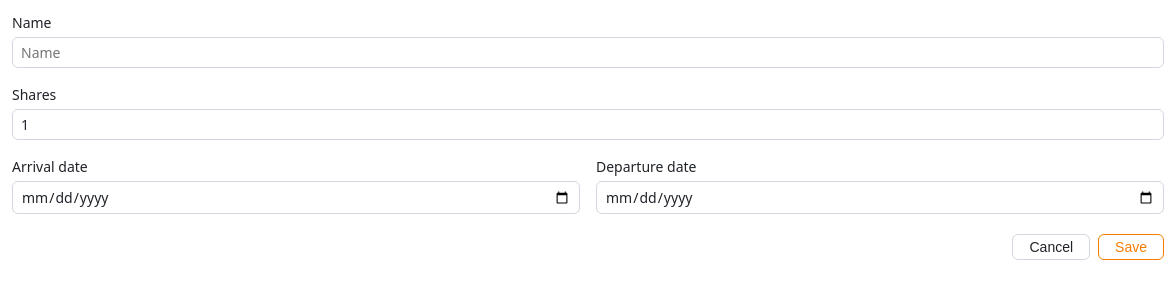
Test: PersonForm › shows departure before arrival error
Type "Bob" into the field with placeholder "Name".
click(588, 52); type("Bob")  # box left=12, top=37, right=1164, bottom=68
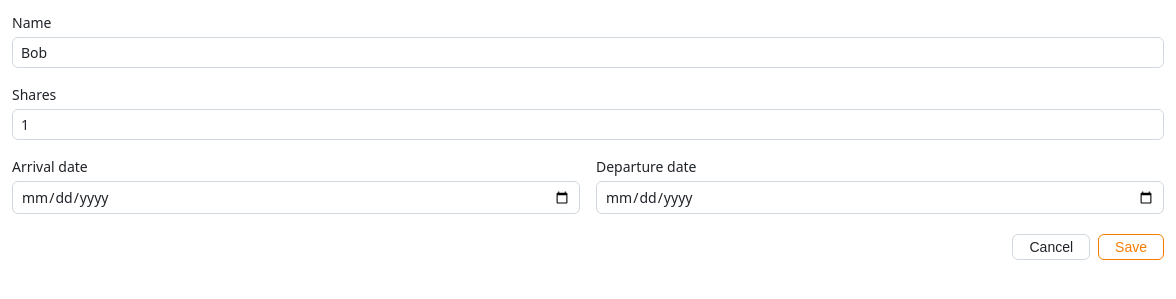
Type "2025-07-10" into the date field labelled "Arrival date".
click(296, 198); type("2025-07-10")  # box left=12, top=181, right=580, bottom=214
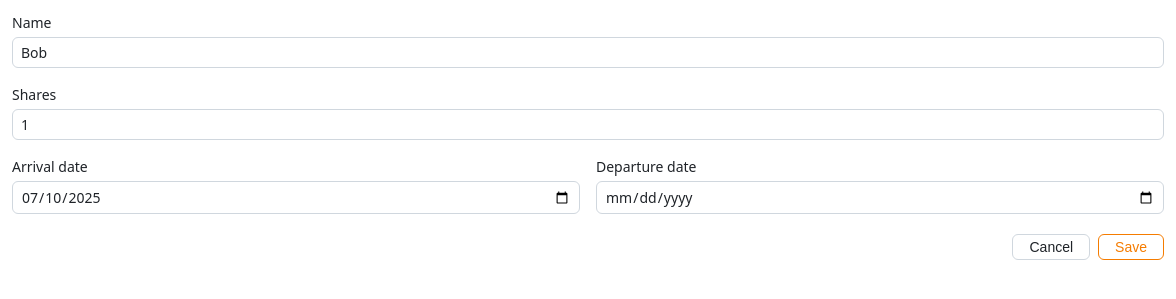
Type "2025-07-01" into the date field labelled "Departure date".
click(880, 198); type("2025-07-01")  # box left=596, top=181, right=1164, bottom=214
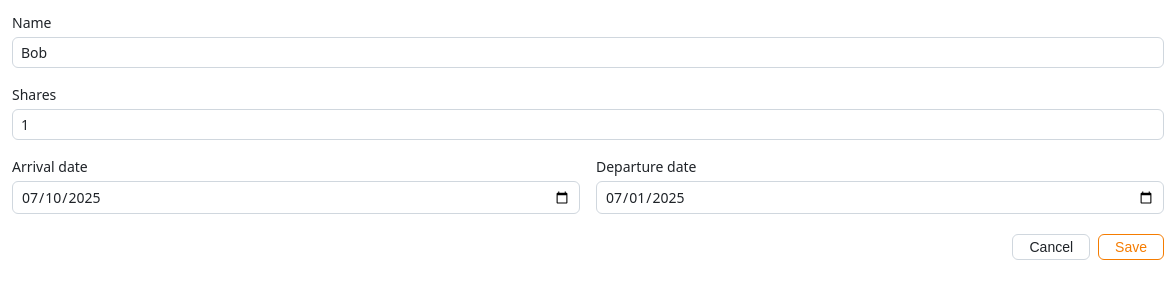
Click the button "Save".
click(1131, 247)  # box left=1098, top=234, right=1164, bottom=260
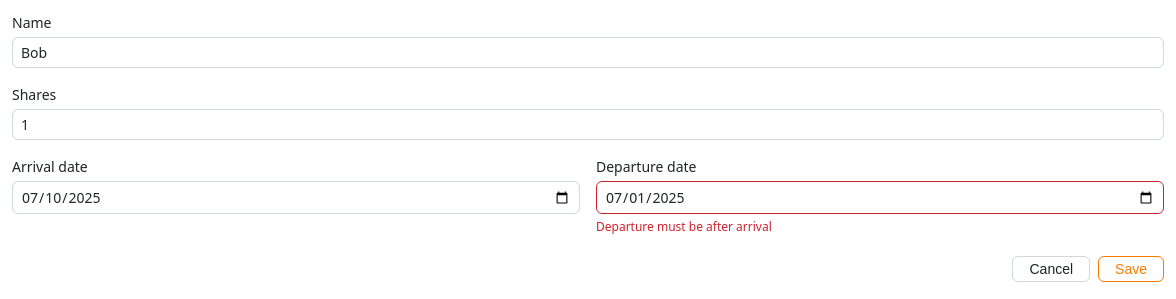
expect the text "Departure must be after arrival" is shown: met, box left=596, top=218, right=772, bottom=235
